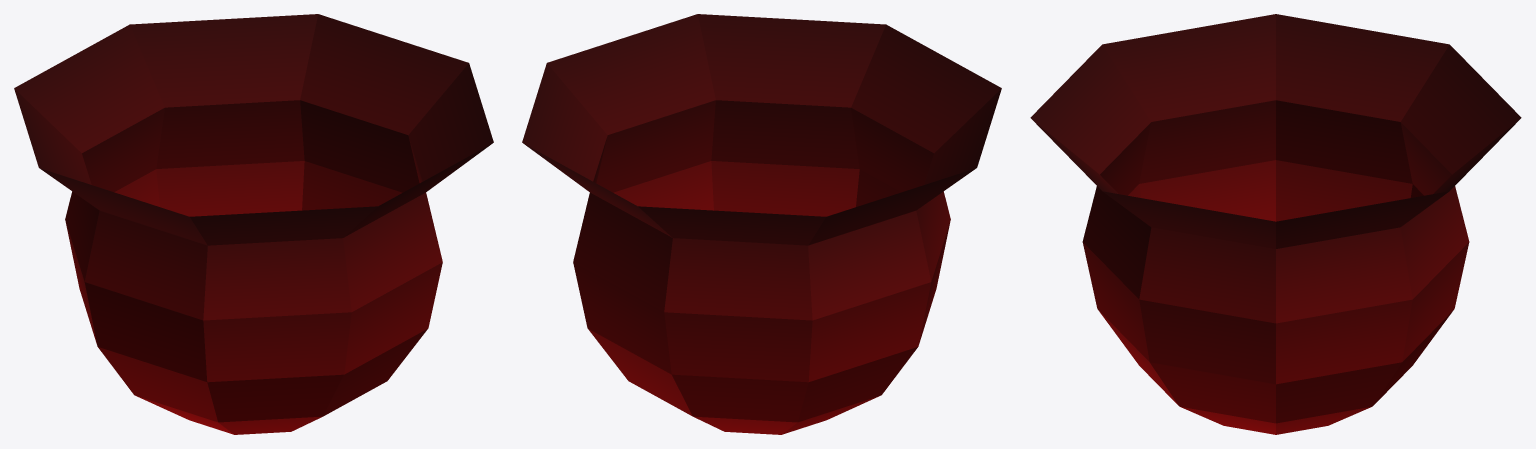
File: SM_WaterShield9.fbx
3 views of the same model, side by side, from view 1: azimuth 30°, elevation 25°; view 2: azimuth 150°, elevation 25°; view 3: azimuth 270°, elevation 25° (orthographic).
Parts seen in each view (by area): view 1: Sphere; view 2: Sphere; view 3: Sphere.
Boxes of the visible parts, bbox=[...] form: Sphere: bbox=[14, 14, 493, 434]; Sphere: bbox=[522, 14, 1001, 434]; Sphere: bbox=[1030, 14, 1521, 434].
Bounding box in the file's own units: 254 × 171 × 254.
